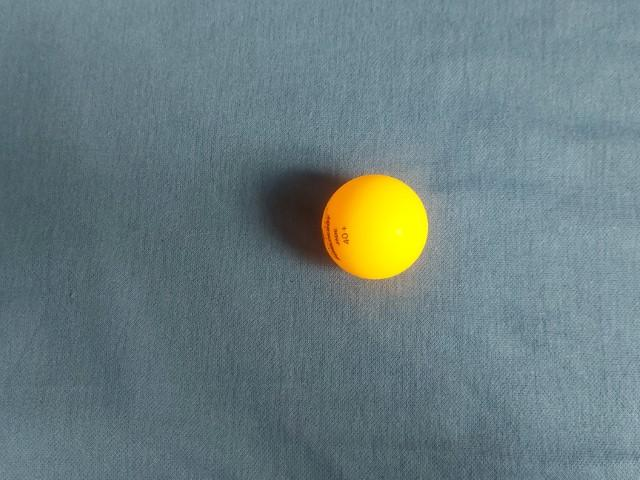oball: (199, 193, 325, 318)
